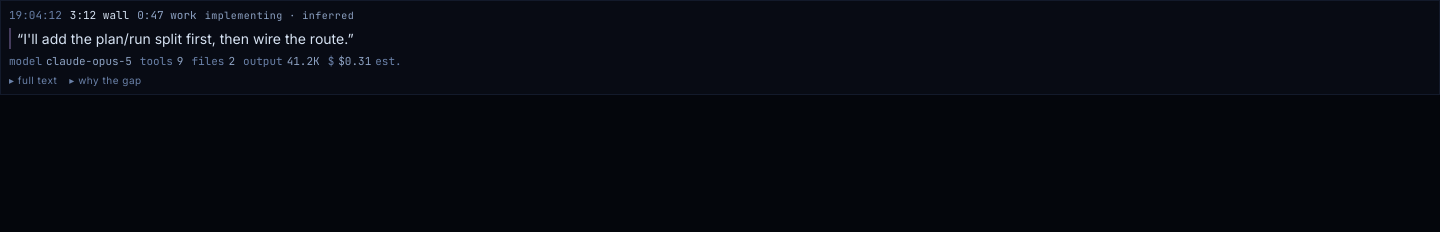
it: the time shape leads › explains the gap through the ONE disclosure card, not prose of its own
Hover over the element with test id "interaction-why-gap": [106, 80] box [69,73,142,88]
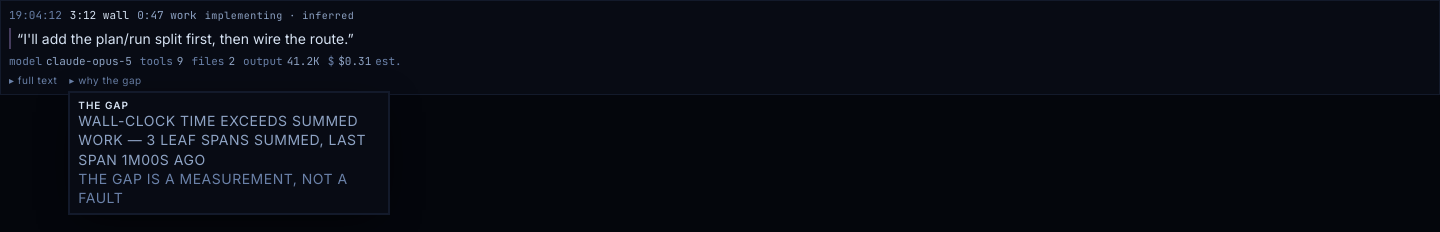
Check: the tooltip with test id "disclosure-card" is shown, box [69,92,389,214]
Check: the text with test id "disclosure-why" shows "3 leaf spans summed", box [78,112,366,168]
